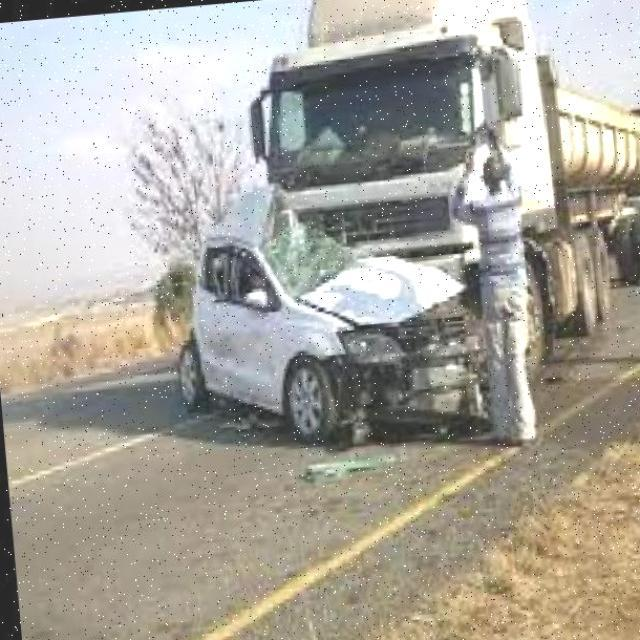accident: (157, 141, 544, 472)
